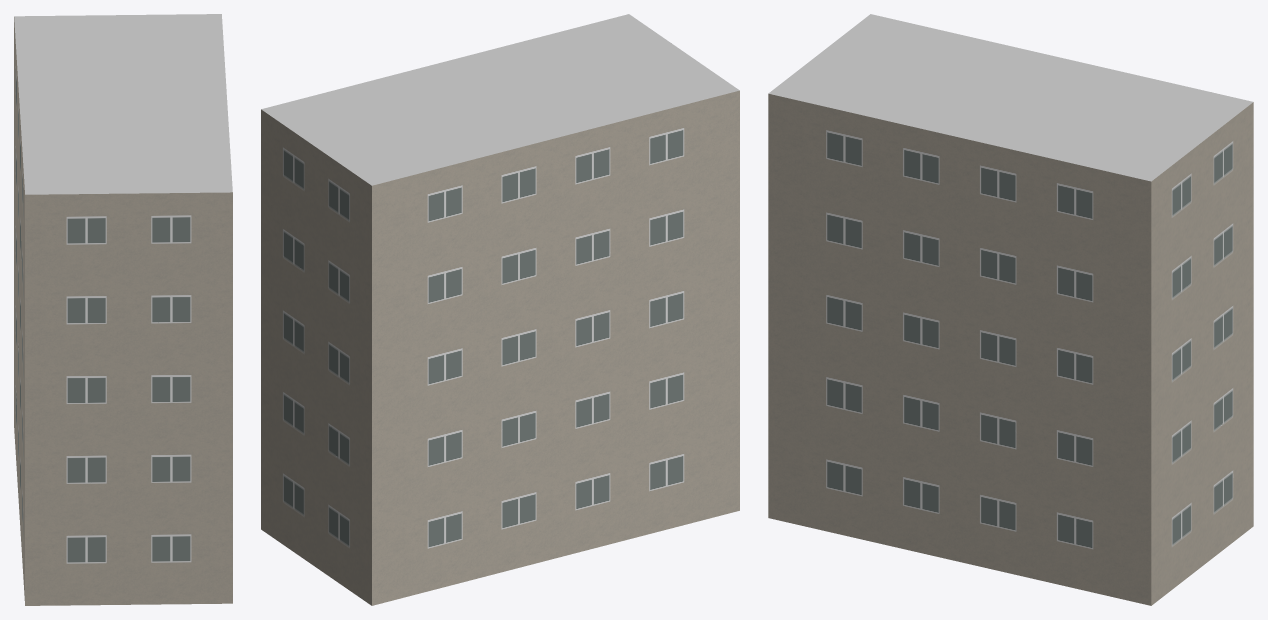
The model's file is building-0-0-555.dae.
The picture shows the model from 3 angles, left to right: view 1: azimuth 30°, elevation 25°; view 2: azimuth 150°, elevation 25°; view 3: azimuth 270°, elevation 25°; orthographic projection. The views are drawn at different scales.
Visible parts, largest first — view 1: geopipeinodeJeg7icZD (×3); view 2: geopipeinodeJeg7icZD (×3); view 3: geopipeinodeJeg7icZD (×3).
Boxes of the visible parts, <box> form: geopipeinodeJeg7icZD (×3): <box>14,14,232,605</box>; geopipeinodeJeg7icZD (×3): <box>261,14,739,605</box>; geopipeinodeJeg7icZD (×3): <box>768,14,1253,605</box>.
Bounding box in the file's own units: 14.48 × 17.73 × 17.1.
